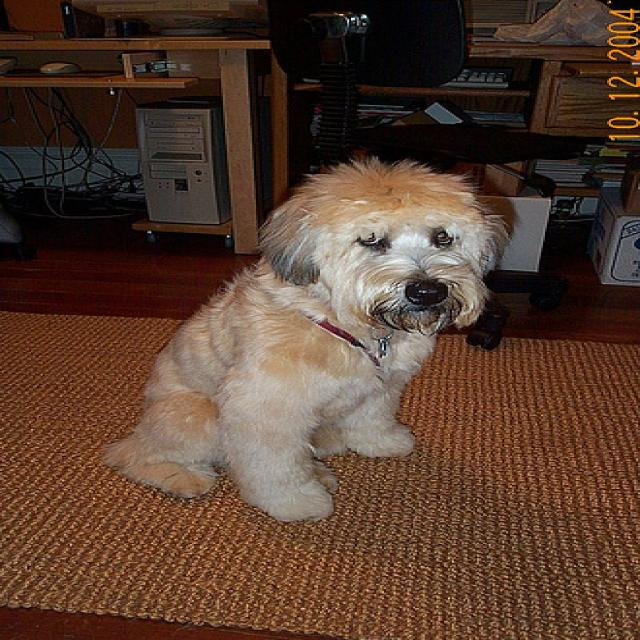dog: (260, 170, 504, 318)
